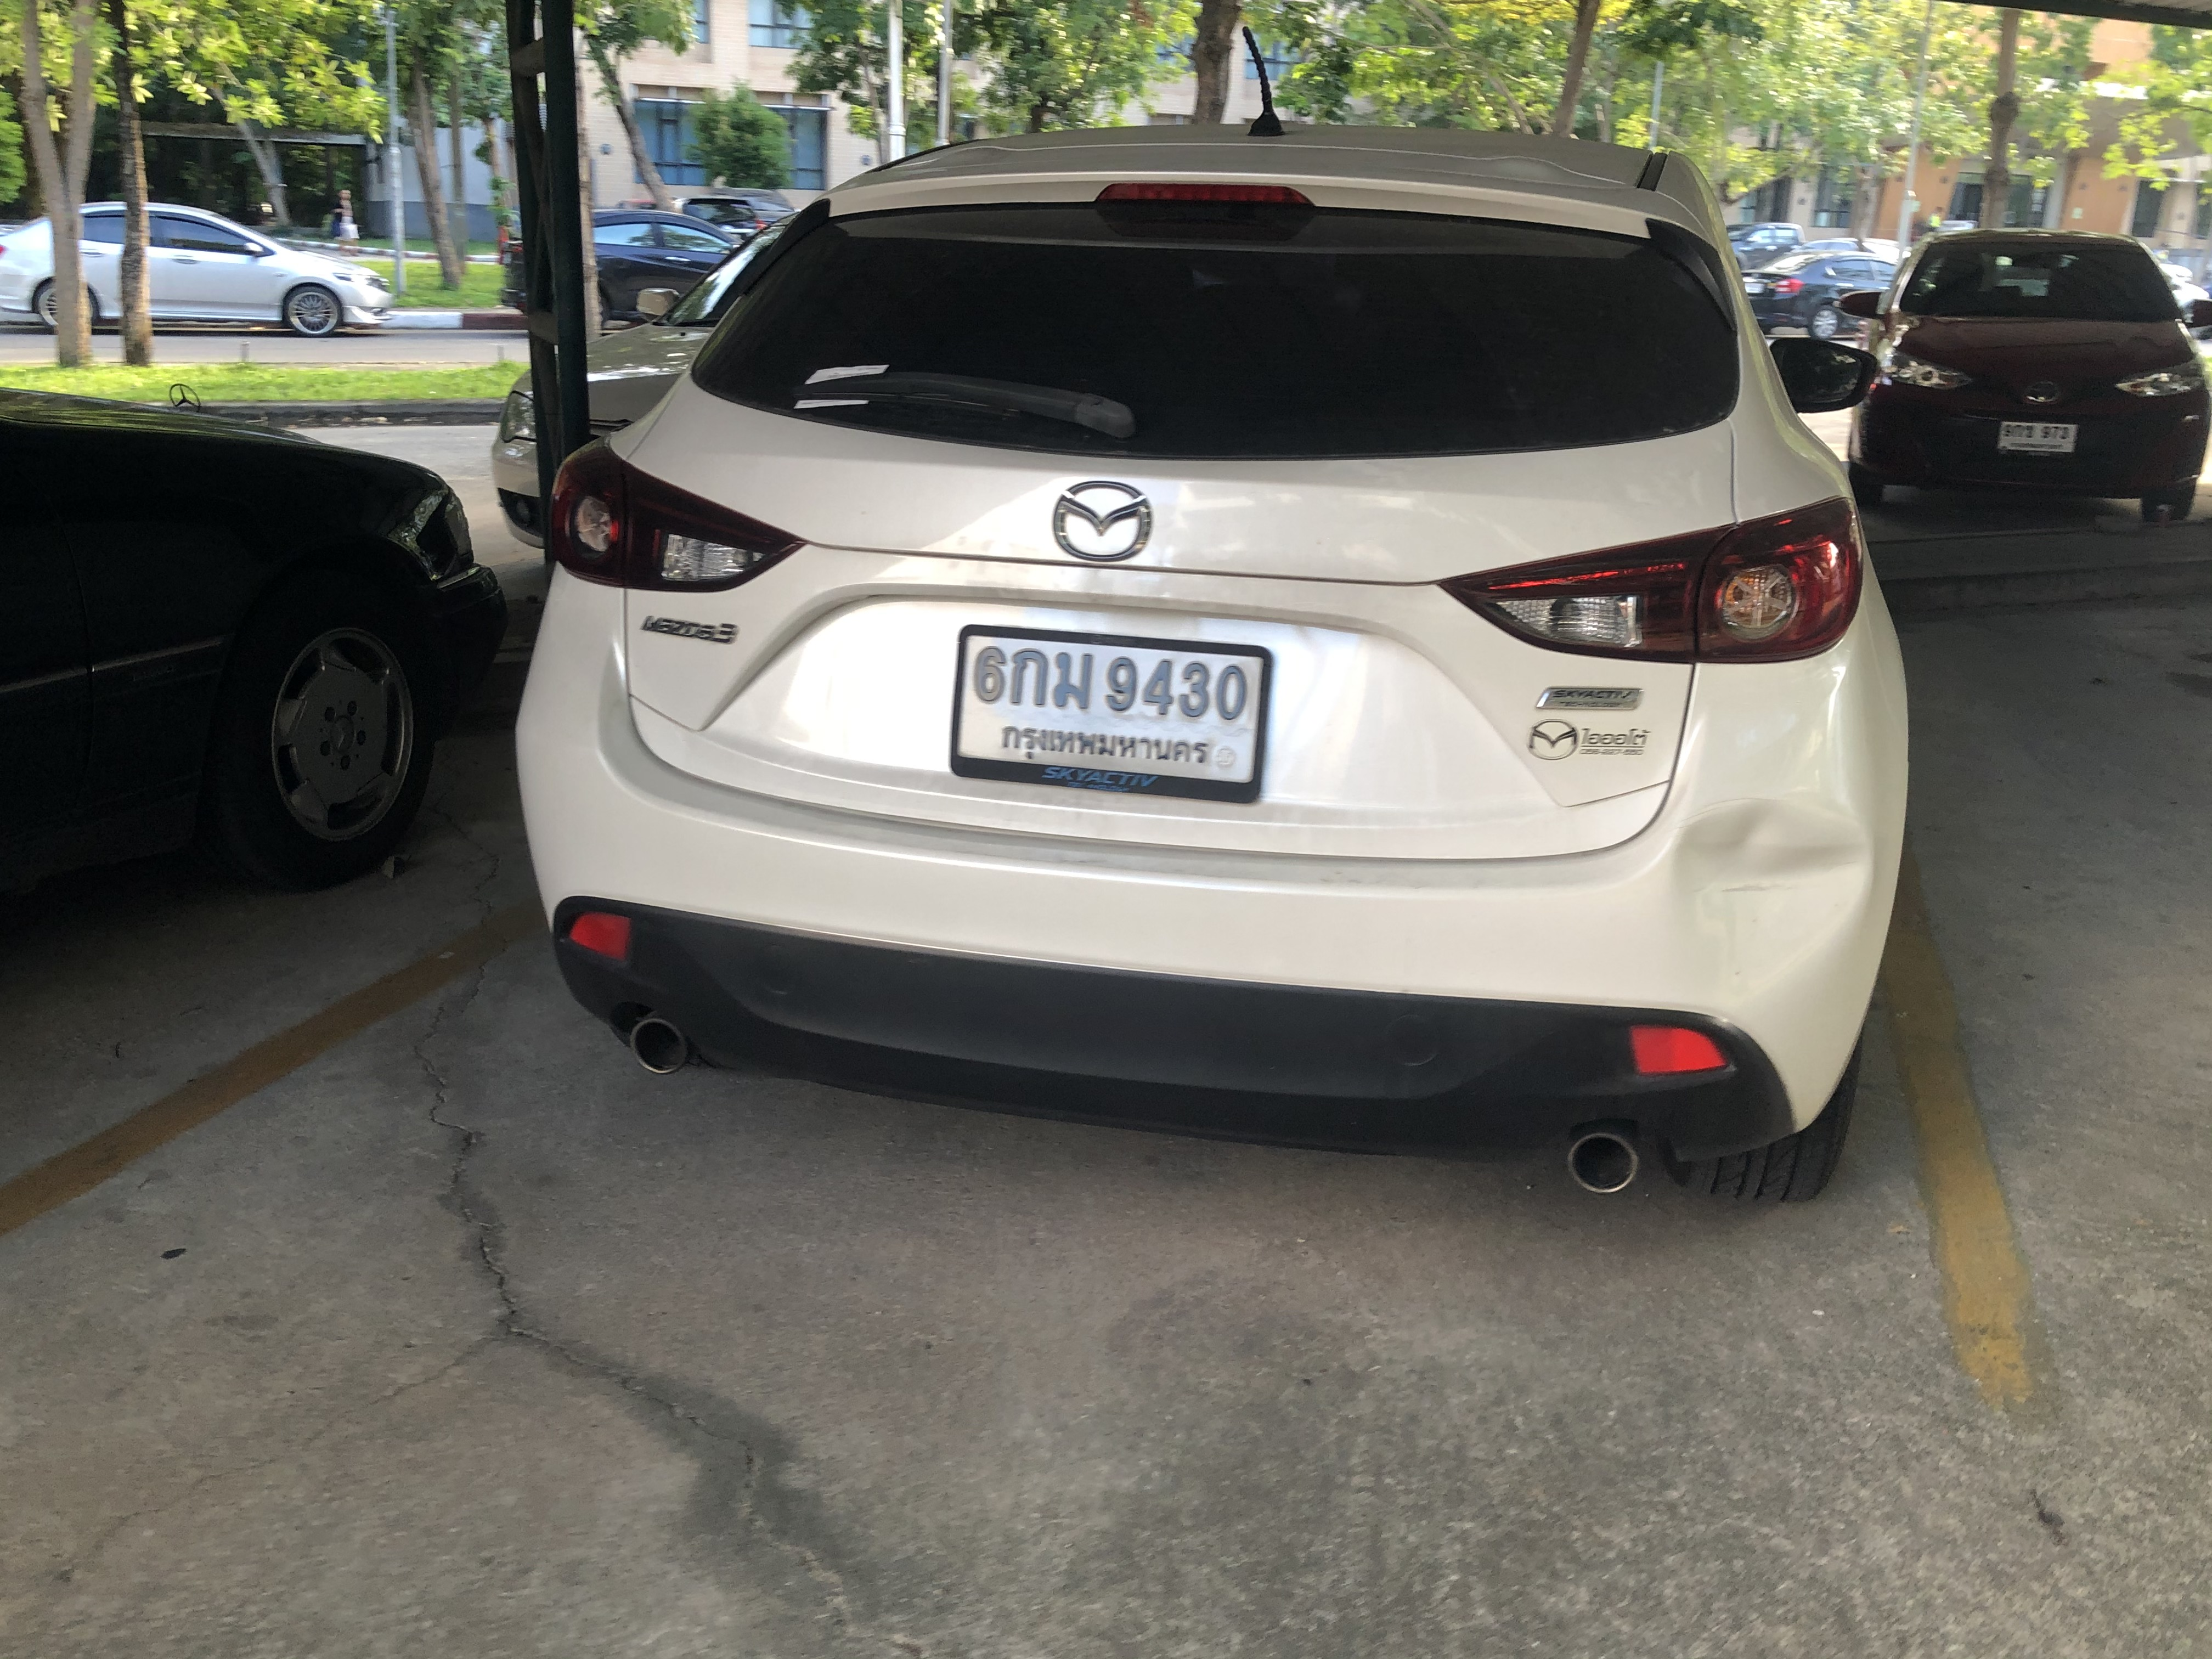in: (963, 633, 1258, 781)
out: (951, 619, 1268, 802)
